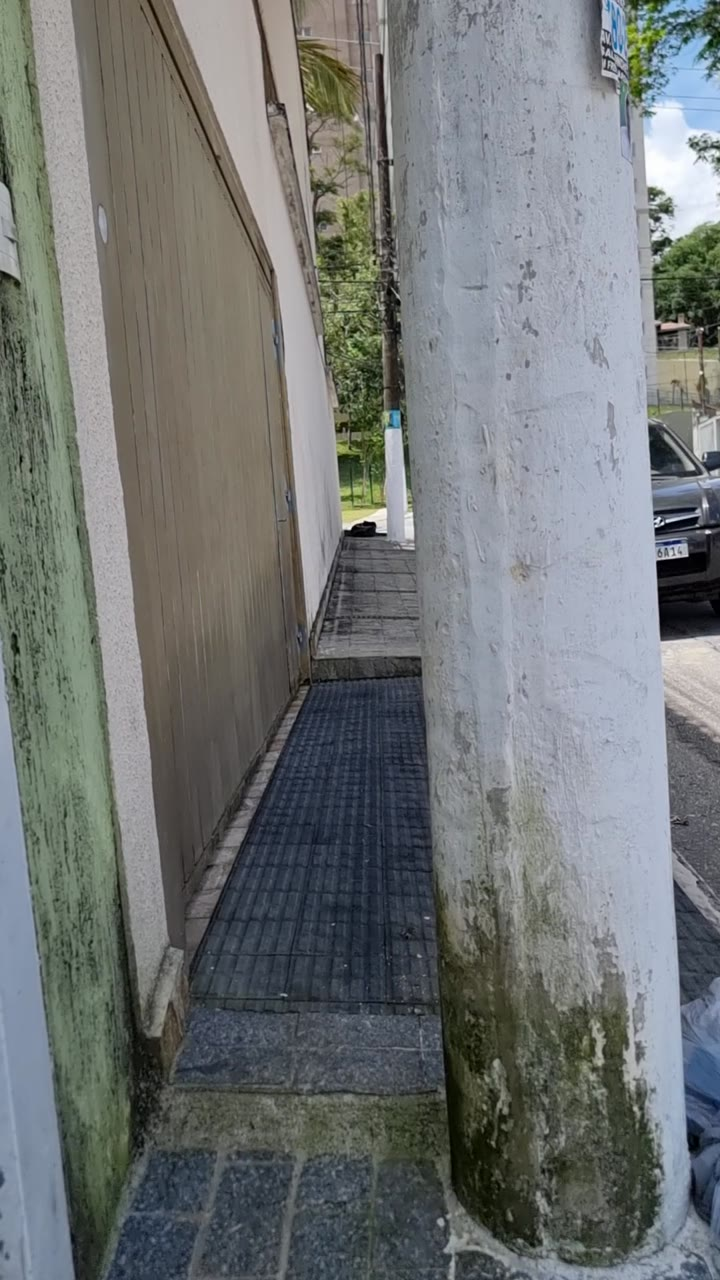obstaculo: (396, 0, 706, 1280)
